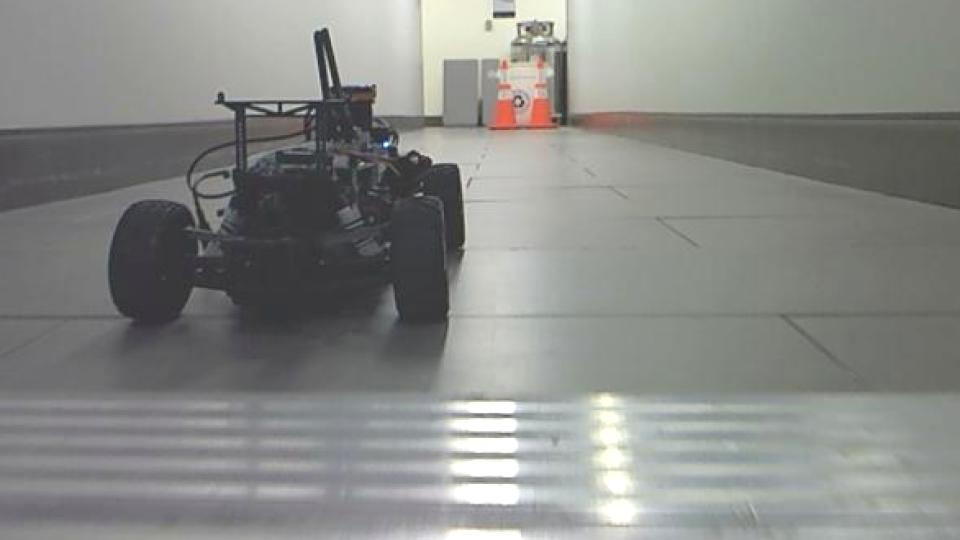car: (105, 25, 470, 329)
